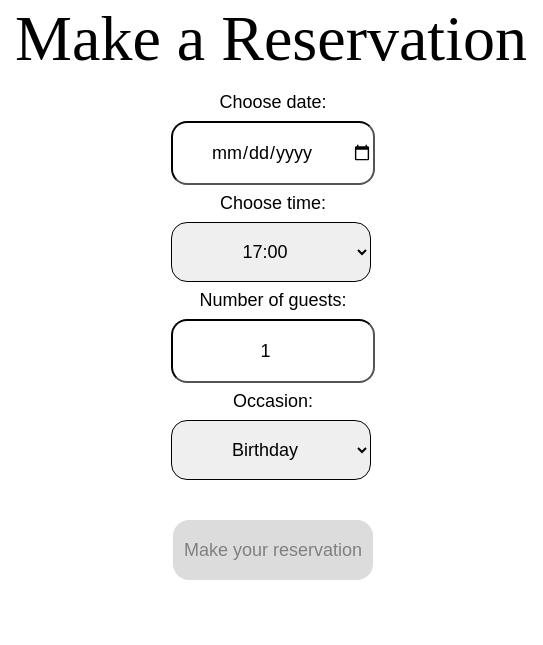
it: Invalid guest quantity creates error
Type "0" into the number field with id "guests". click: (273, 351)
box: [171, 319, 375, 383]
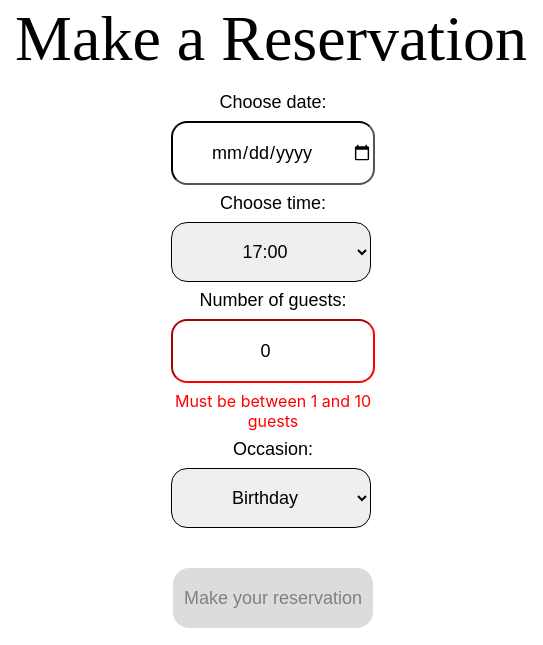
Expected: the text "Must be between 1 and 10 guests" is shown, [171, 391, 375, 431]
